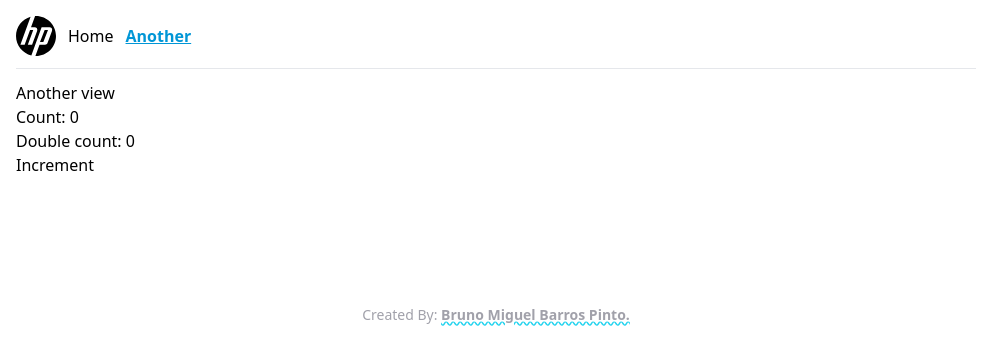
Test: App › renders another view
This screenshot has width=993, height=343.
Expected: the text "Another view" is shown, [16, 82, 115, 104]
Expected: the text "Count: 0" is shown, [16, 106, 79, 128]
Click the button "Increment" at point(55, 165), box [16, 153, 94, 177]
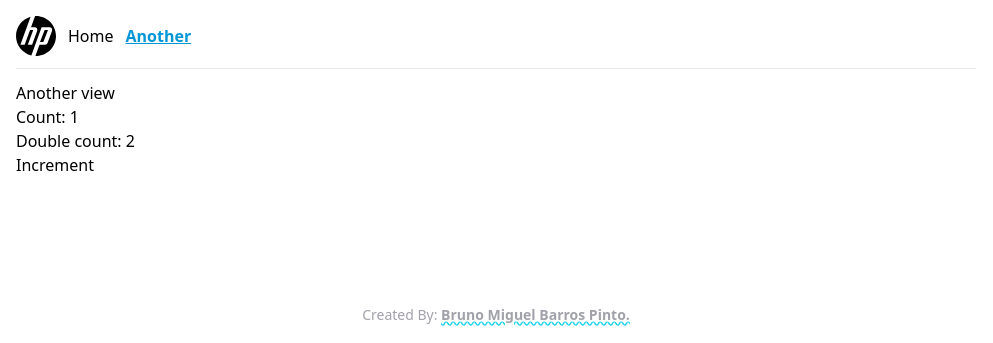
Now the text "Count: 1" is shown, box [16, 106, 79, 128]
Now the text "Double count: 2" is shown, box [16, 130, 135, 152]
